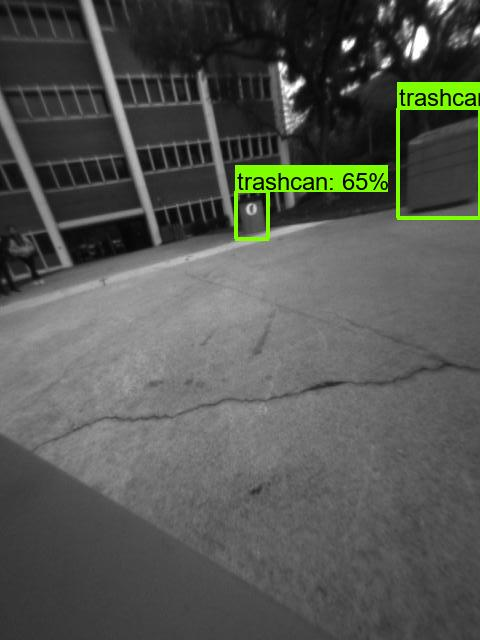trashcan: (405, 113, 480, 216), (234, 195, 271, 233)
